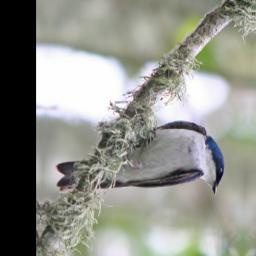Swallow: (53, 111, 229, 205)
